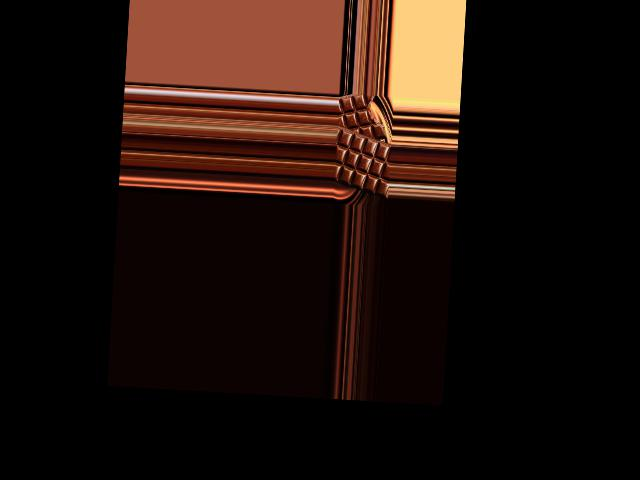chocolate: (332, 125, 391, 200)
